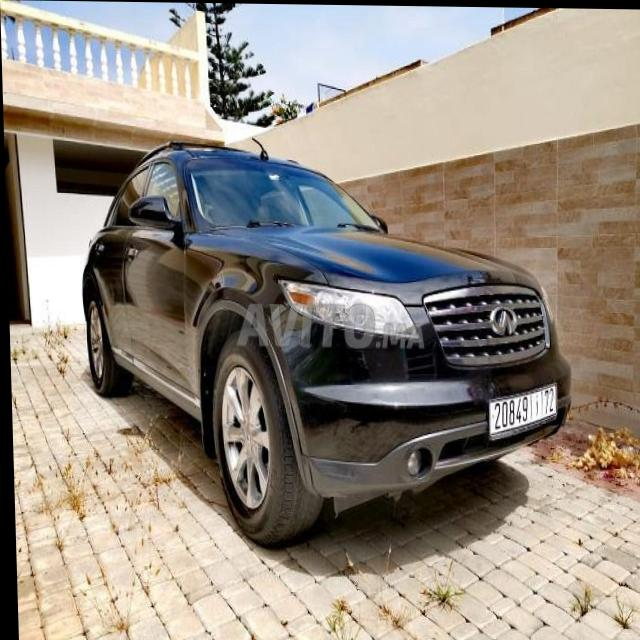License-Plate: (488, 385, 554, 433)
